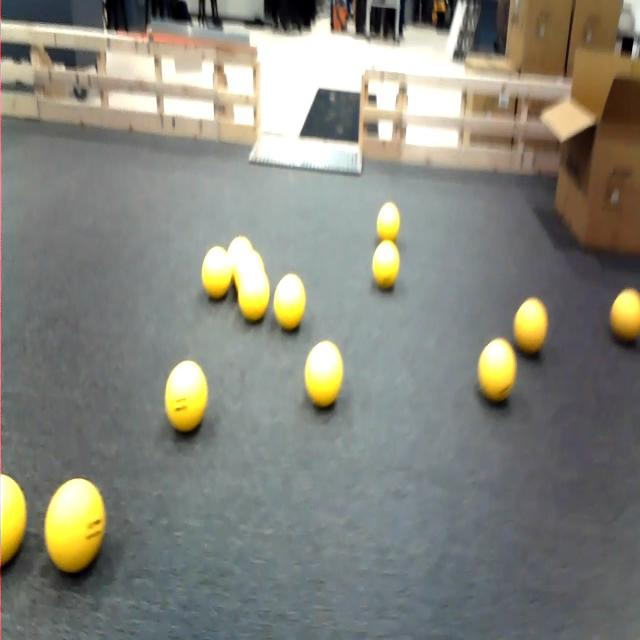fuel: (44, 479, 105, 573), (165, 361, 207, 432), (305, 341, 343, 407), (478, 339, 516, 402), (0, 474, 26, 566), (514, 298, 547, 355), (274, 274, 305, 330), (238, 270, 270, 322), (610, 288, 639, 342), (202, 247, 232, 299), (372, 240, 399, 288), (227, 236, 252, 283), (235, 250, 265, 287), (377, 202, 399, 241)
